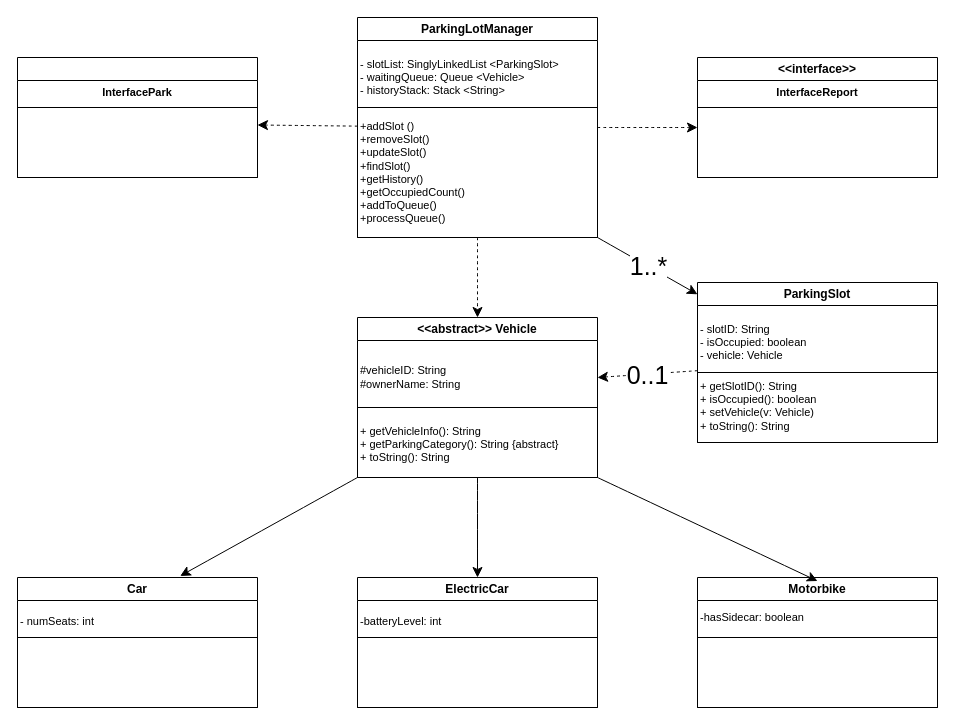
The diagram is 955 pixels wide and 725 high, and some of its shapes have lost their labels. Here are the shapes that lost their labels. From the top down, the centre of each, then its label:
the point at 137,142: +addSlot () +removeSlot() +updateSlot() +findSlot()
the point at 817,142: +getHistory() +getOccupiedCount()
the point at 137,672: + getParkingCategory(): String + toString(): String + getNumSeats(): int
the point at 477,672: + getParkingCategory(): String + toString(): String + getBatteryLevel(): int
the point at 817,672: + getParkingCategory(): String + toString(): String + isHasSidecar(): boolean
